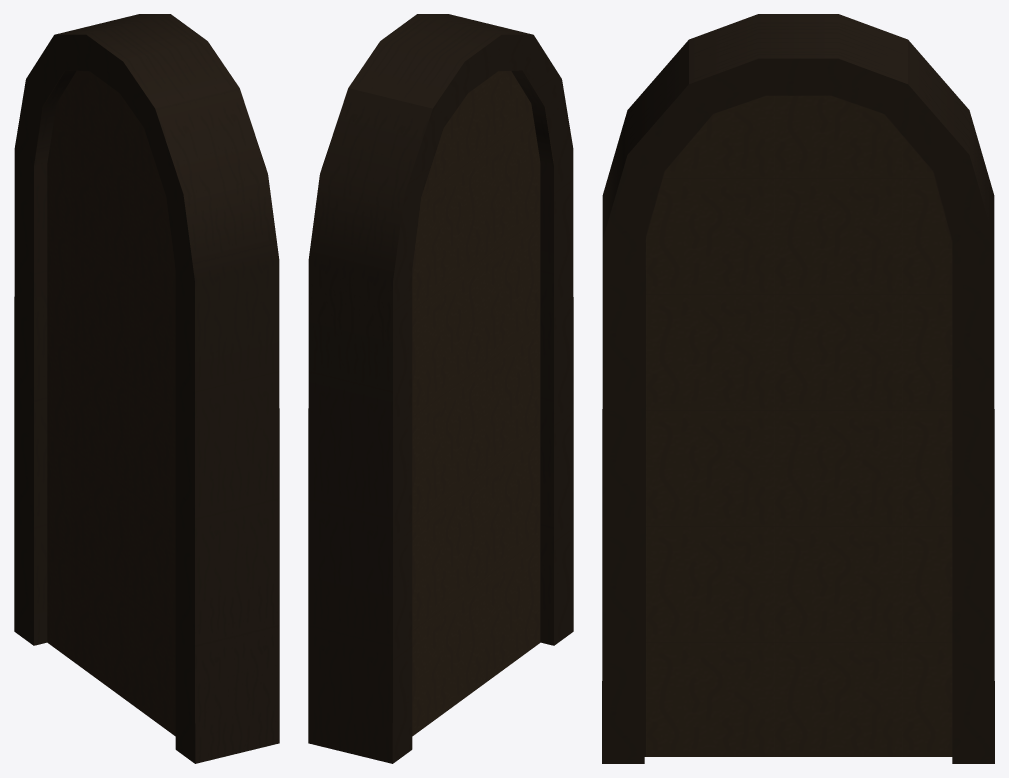
The model's file is door.fbx.
The picture shows the model from 3 angles, left to right: view 1: azimuth 30°, elevation 25°; view 2: azimuth 150°, elevation 25°; view 3: azimuth 270°, elevation 25°; orthographic projection. The views are drawn at different scales.
Visible parts, largest first — view 1: pCube17; view 2: pCube17; view 3: pCube17.
Boxes of the visible parts, x1,y1,x2,y2 form: pCube17: (14, 14, 279, 763); pCube17: (308, 14, 573, 763); pCube17: (602, 14, 994, 763).
Bounding box in the file's own units: 1.28 × 9.37 × 4.73.
